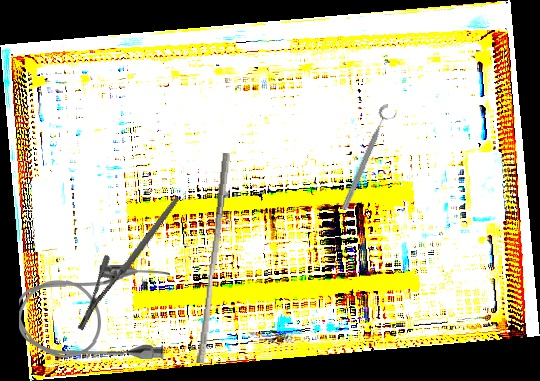Cannula: (18, 263, 172, 362)
Fixation Ring: (337, 102, 401, 215)
Needle Holder: (47, 196, 210, 334)
Pusher: (195, 151, 231, 365)
